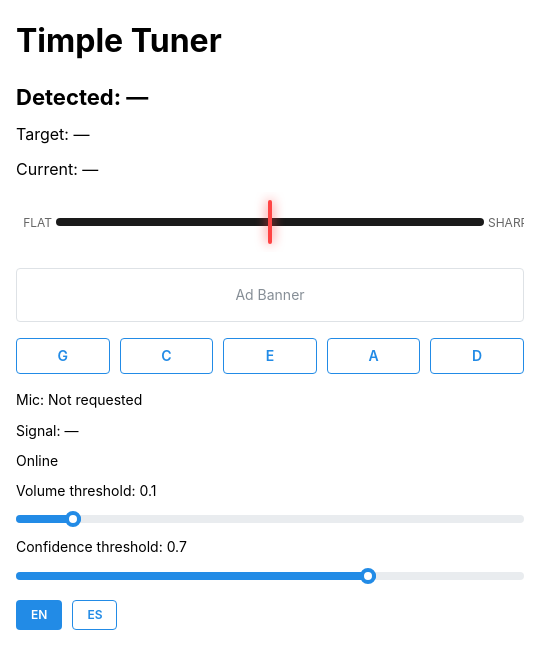
Scenario: i18n integration › should switch to Spanish when ES button is clicked
Check: the heading "Timple Tuner" is shown, box [16,16,222,66]
Click the button with test id "lang-es".
click(95, 615)  # box [72,600,118,630]
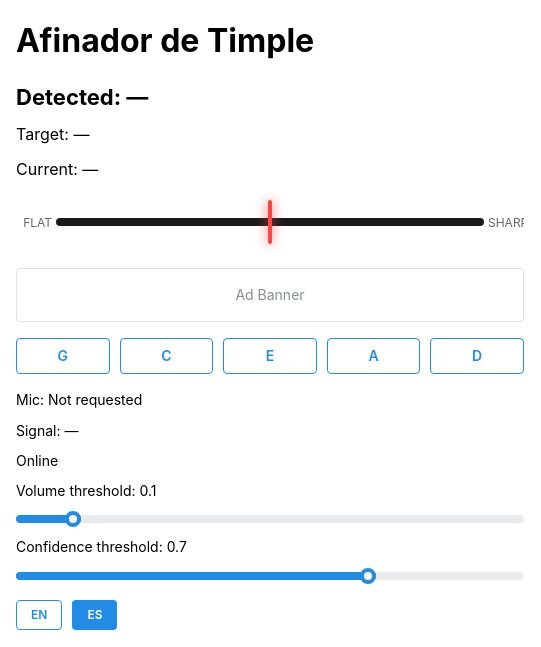
Check: the heading "Afinador de Timple" is shown, box [16,16,314,66]
